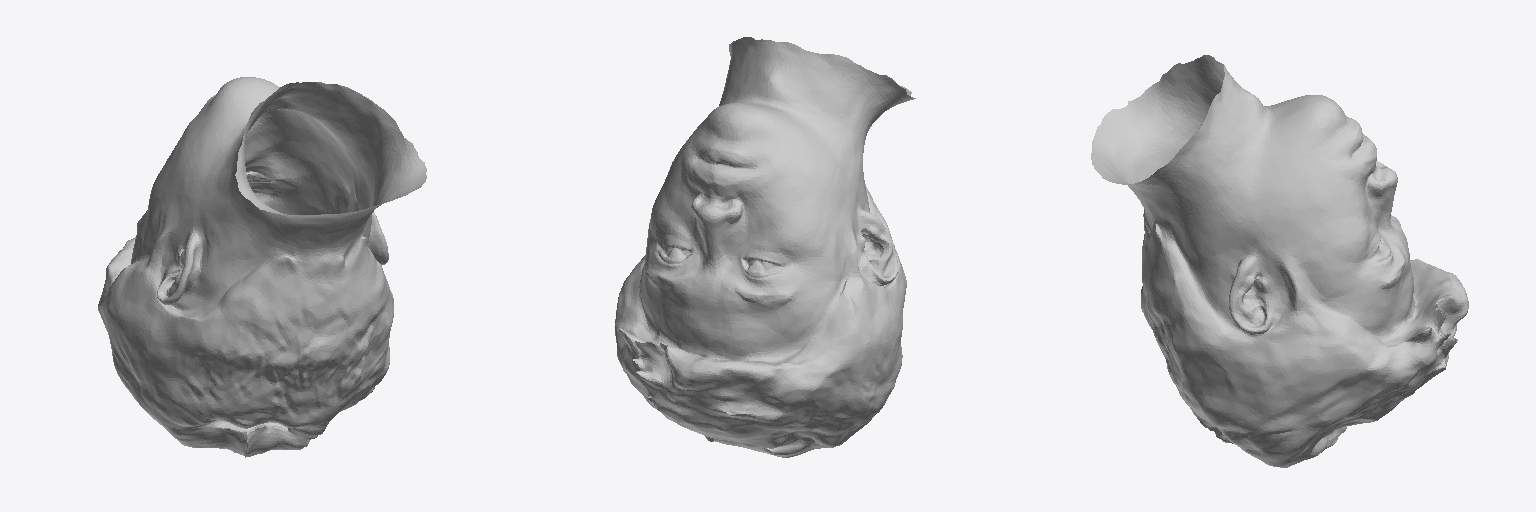
Rendered from head.obj.
The picture shows the model from 3 angles: view 1: azimuth 30°, elevation 25°; view 2: azimuth 150°, elevation 25°; view 3: azimuth 270°, elevation 25°; orthographic projection.
Visible parts, largest first — view 1: uvmap; view 2: uvmap; view 3: uvmap.
Part boxes in pixels (x1,y1,x2,y2): uvmap: (98, 77, 426, 457); uvmap: (615, 37, 915, 457); uvmap: (1091, 55, 1468, 467).
Bounding box in the file's own units: 1.3 × 1.92 × 1.71.